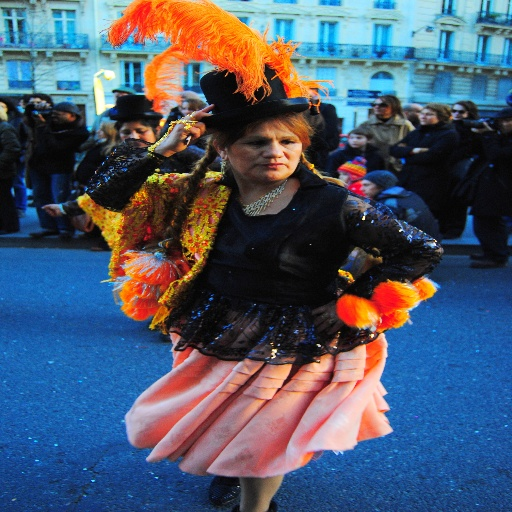hand: (153, 105, 214, 157), (308, 299, 355, 337), (38, 201, 58, 218)
